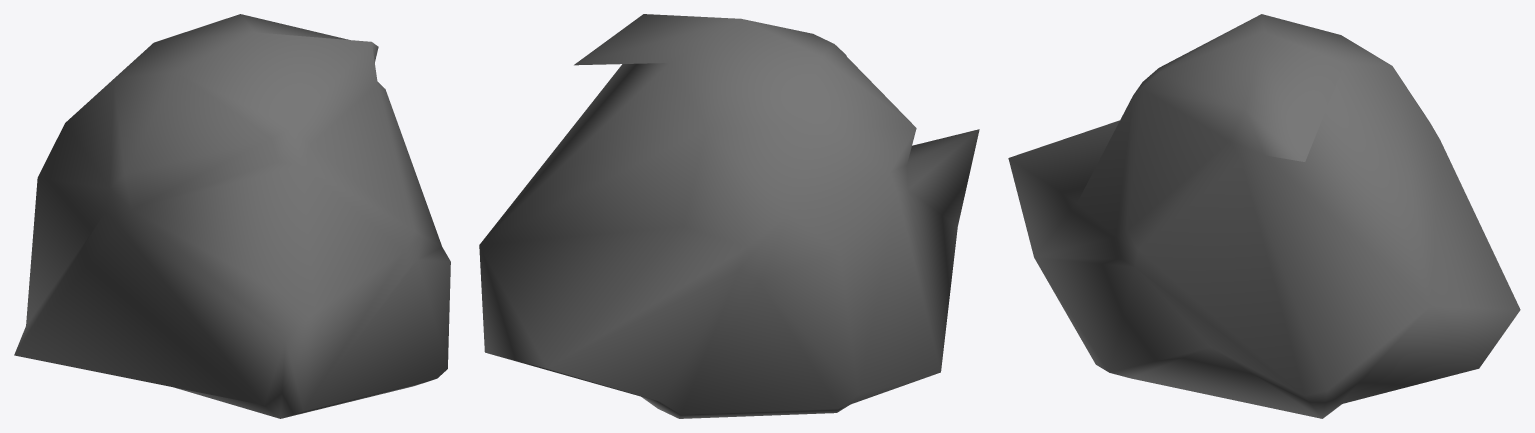
File: deformedRock-05_col.fbx
3 views of the same model, side by side, from view 1: azimuth 30°, elevation 25°; view 2: azimuth 150°, elevation 25°; view 3: azimuth 270°, elevation 25° (orthographic). The views are drawn at different scales.
Visible parts, largest first — view 1: deformedRock-05.col; view 2: deformedRock-05.col; view 3: deformedRock-05.col.
Boxes of the visible parts, bbox=[...] form: deformedRock-05.col: bbox=[14, 14, 450, 418]; deformedRock-05.col: bbox=[479, 14, 979, 418]; deformedRock-05.col: bbox=[1008, 14, 1520, 418].
Size of the model in its own units: 0.3519 by 0.2607 by 0.3832.
1 material, 1 textured.
